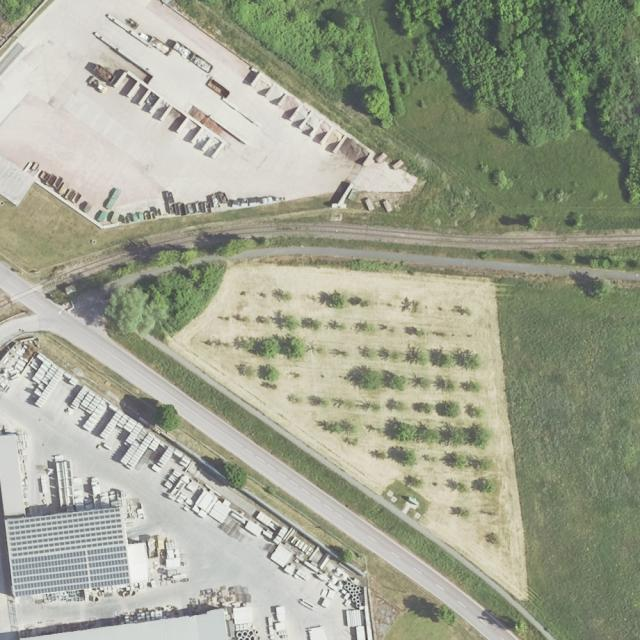PV: (8, 507, 131, 597)
